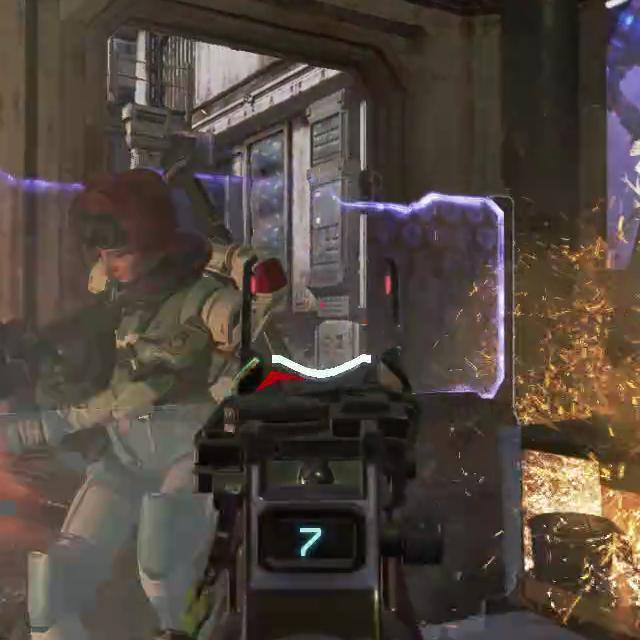avatar: (28, 165, 286, 640)
